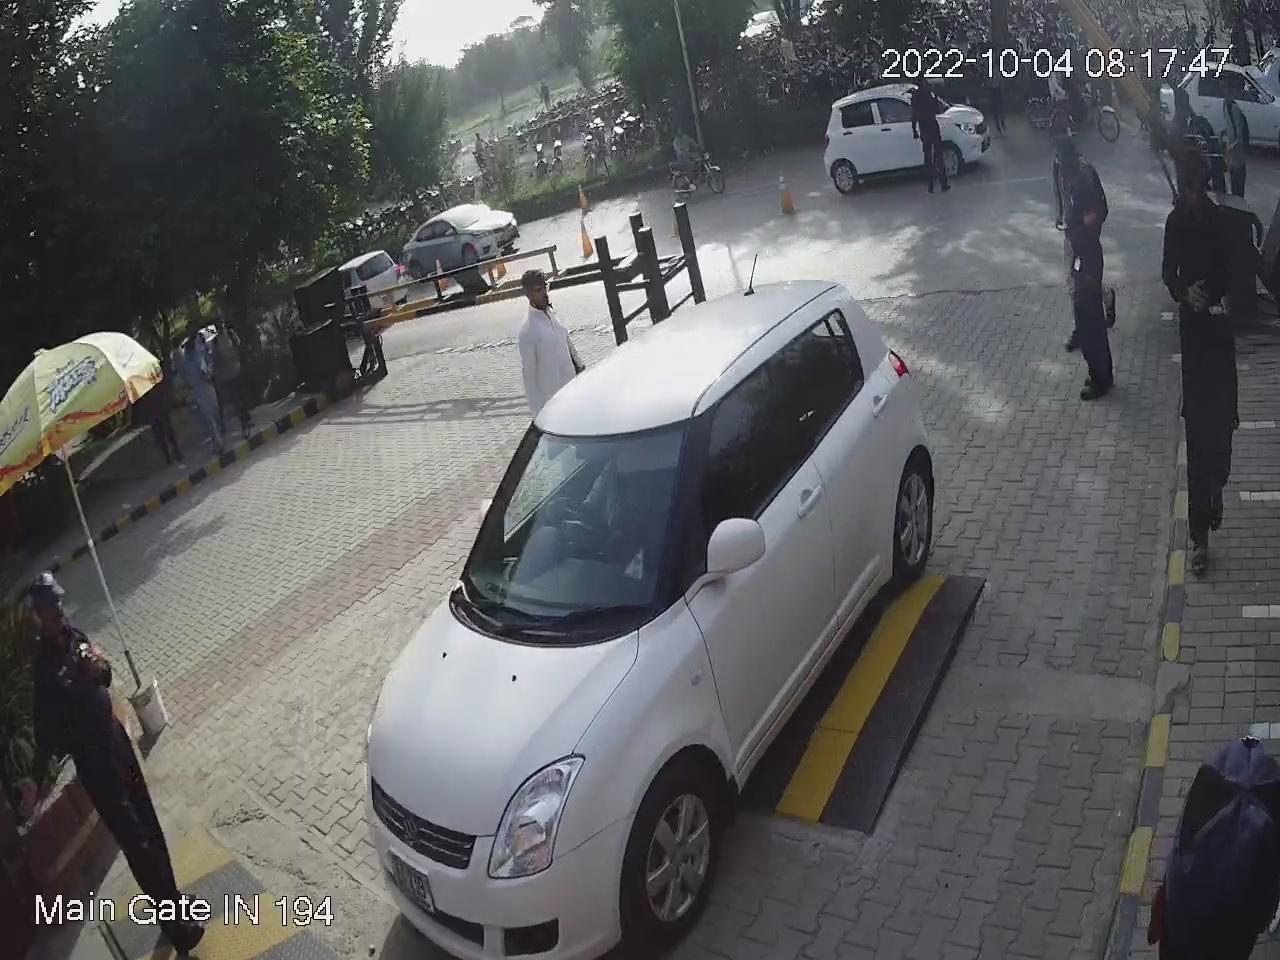windshield: (463, 415, 690, 620)
